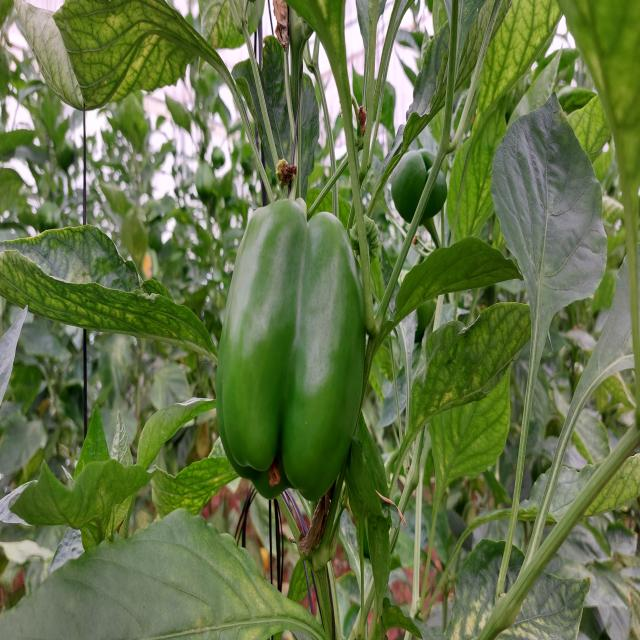Green--Not-ready-to-harvest: (214, 206, 372, 504), (393, 149, 446, 219)
